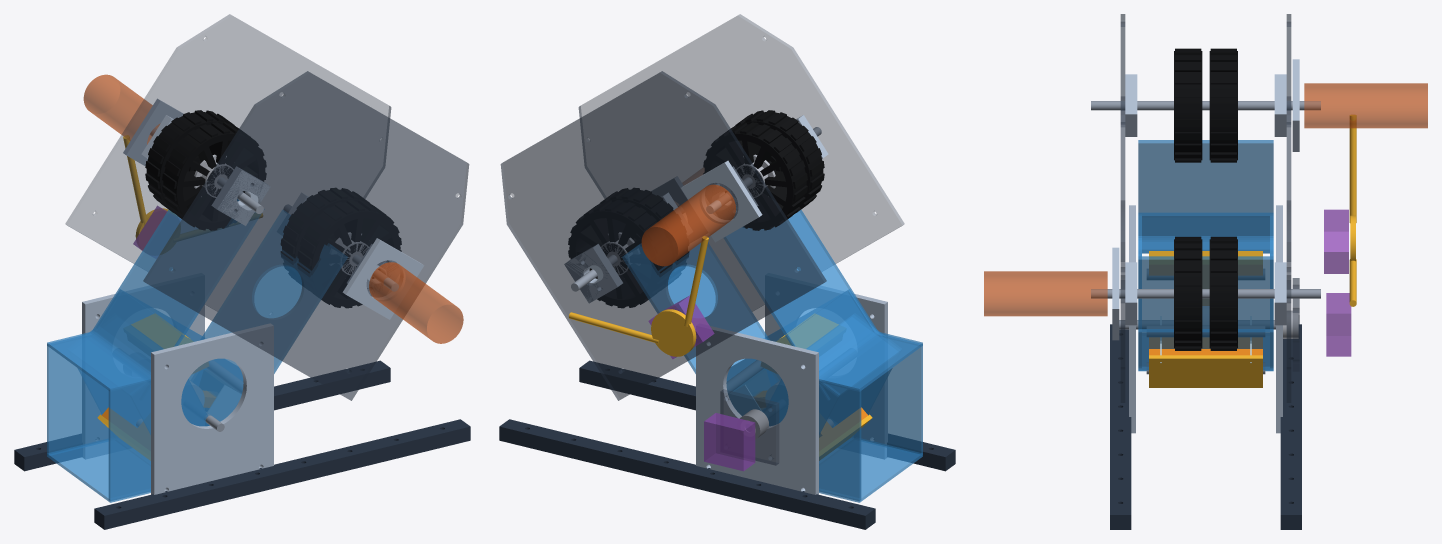
File: paddle_launcher_constrained_nectar.glb
3 views of the same model, side by side, from view 1: azimuth 30°, elevation 25°; view 2: azimuth 150°, elevation 25°; view 3: azimuth 270°, elevation 25° (orthographic). The views are drawn at different scales.
Parts seen in each view (by area): view 1: shooter_side_plate_-1, shooter_side_plate_+1, paddle_support_cheek_-1, base_rail_-72, shooter_throat_+55, shooter_throat_-55, gecko_flywheel_upper_1, guide_wall_1_+1, gecko_flywheel_lower_1, guide_wall_1_-1, base_rail_+72, motor_envelope_lower (+22 smaller); view 2: shooter_side_plate_+1, shooter_side_plate_-1, paddle_support_cheek_+1, base_rail_+72, shooter_throat_+55, shooter_throat_-55, gecko_flywheel_upper_2, guide_wall_1_-1, guide_wall_1_+1, gecko_flywheel_lower_2, base_rail_-72, motor_envelope_upper (+24 smaller); view 3: shooter_throat_+55, motor_envelope_upper, motor_envelope_lower, shooter_throat_-55, guide_roof_3, base_rail_-72, base_rail_+72, paddle_flex_tip_1, guide_roof_1, gecko_flywheel_upper_1, gecko_flywheel_upper_2, gecko_flywheel_lower_1 (+23 smaller).
Boxes of the visible parts, left/top/right/bottom form: shooter_side_plate_-1: left=143, top=71, right=469, bottom=400; shooter_side_plate_+1: left=65, top=14, right=391, bottom=311; paddle_support_cheek_-1: left=151, top=323, right=273, bottom=494; base_rail_-72: left=94, top=419, right=470, bottom=529; shooter_throat_+55: left=119, top=199, right=264, bottom=335; shooter_throat_-55: left=202, top=210, right=347, bottom=373; gecko_flywheel_upper_1: left=162, top=122, right=266, bottom=230; guide_wall_1_+1: left=47, top=335, right=113, bottom=455; gecko_flywheel_lower_1: left=297, top=200, right=401, bottom=307; guide_wall_1_-1: left=108, top=379, right=150, bottom=500; base_rail_+72: left=14, top=360, right=390, bottom=471; motor_envelope_lower: left=369, top=262, right=463, bottom=343; shooter_side_plate_+1: left=500, top=71, right=826, bottom=400; shooter_side_plate_-1: left=578, top=14, right=904, bottom=311; paddle_support_cheek_+1: left=696, top=326, right=818, bottom=494; base_rail_+72: left=499, top=419, right=875, bottom=529; shooter_throat_+55: left=724, top=209, right=850, bottom=335; shooter_throat_-55: left=622, top=243, right=767, bottom=373; gecko_flywheel_upper_2: left=703, top=122, right=807, bottom=230; guide_wall_1_-1: left=856, top=335, right=922, bottom=455; guide_wall_1_+1: left=819, top=379, right=861, bottom=500; gecko_flywheel_lower_2: left=568, top=200, right=672, bottom=307; base_rail_-72: left=579, top=360, right=955, bottom=471; motor_envelope_upper: left=641, top=184, right=735, bottom=266; shooter_throat_+55: left=1138, top=140, right=1273, bottom=215; motor_envelope_upper: left=1304, top=83, right=1427, bottom=128; motor_envelope_lower: left=984, top=271, right=1107, bottom=316; shooter_throat_-55: left=1138, top=256, right=1273, bottom=332; guide_roof_3: left=1138, top=213, right=1273, bottom=253; base_rail_-72: left=1110, top=324, right=1131, bottom=529; base_rail_+72: left=1280, top=324, right=1301, bottom=529; paddle_flex_tip_1: left=1149, top=355, right=1262, bottom=387; guide_roof_1: left=1142, top=216, right=1269, bottom=252; gecko_flywheel_upper_1: left=1174, top=48, right=1202, bottom=162; gecko_flywheel_upper_2: left=1209, top=48, right=1237, bottom=162; gecko_flywheel_lower_1: left=1174, top=236, right=1202, bottom=350.
Size of the model in its own units: 384 by 400 by 374.
